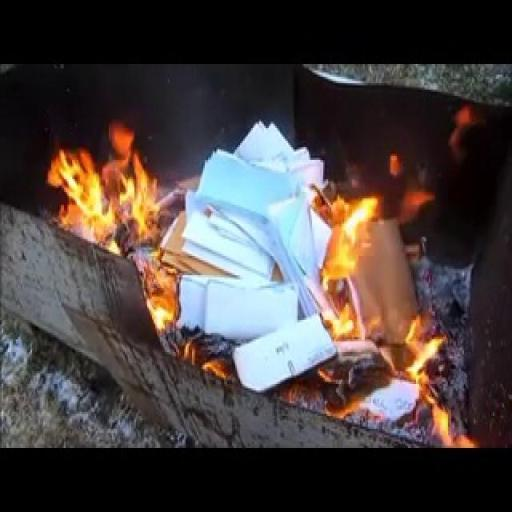smoke: (40, 94, 174, 268), (306, 156, 412, 365)
